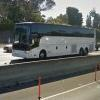Bus: (9, 15, 100, 65)
